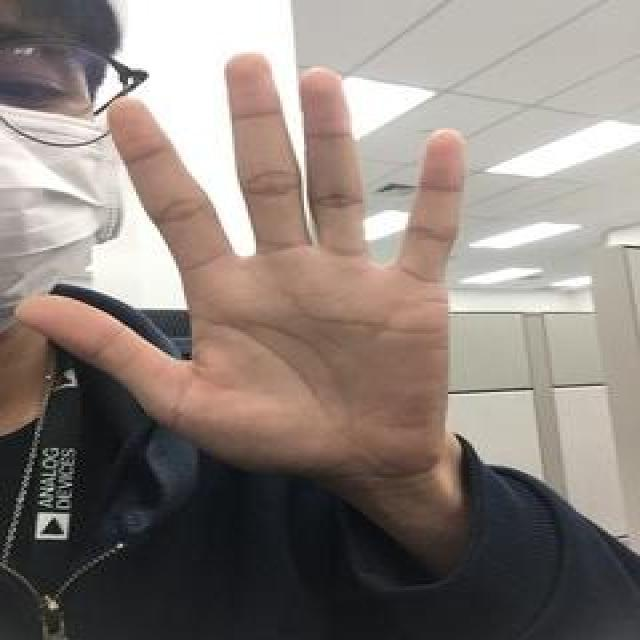no-gloves: (16, 48, 477, 480)
